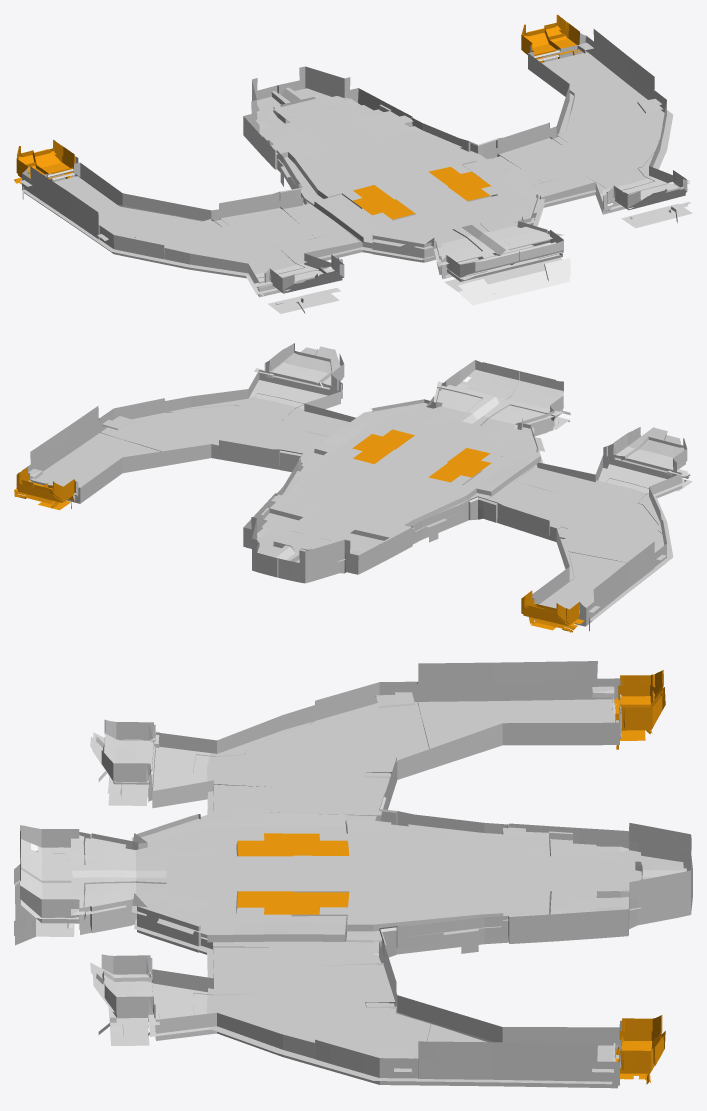
File: interior ship model with outwallls.fbx
3 views of the same model, one above another, from view 1: azimuth 30°, elevation 25°; view 2: azimuth 150°, elevation 25°; view 3: azimuth 270°, elevation 25° (orthographic). The views are drawn at different scales.
Visible parts, largest first — view 1: Cube.002; view 2: Cube.002; view 3: Cube.002.
Boxes of the visible parts, bbox=[...] form: Cube.002: bbox=[14, 14, 692, 313]; Cube.002: bbox=[14, 343, 692, 632]; Cube.002: bbox=[14, 661, 692, 1088].
Bounding box in the file's own units: 1316 × 94.97 × 969.
